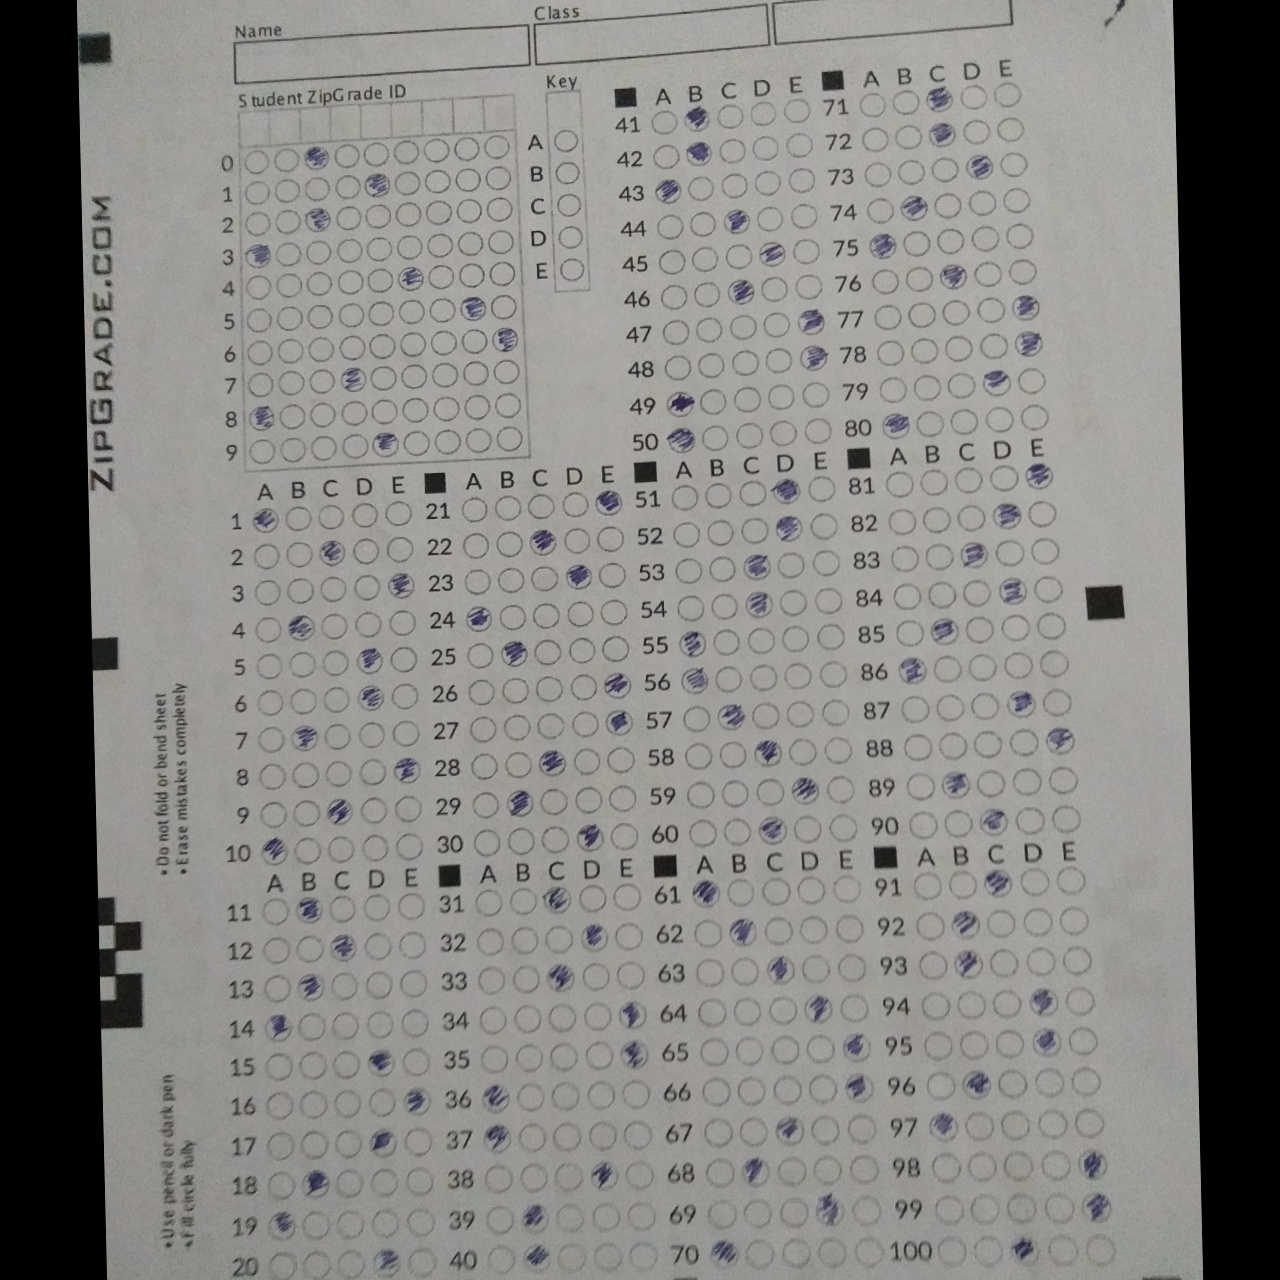not-c: (1001, 1189, 1037, 1227), (699, 1114, 736, 1150), (971, 1230, 1005, 1269), (703, 1196, 740, 1232), (927, 1149, 964, 1185), (1039, 1190, 1076, 1225), (850, 1234, 888, 1268), (1062, 983, 1101, 1017), (911, 908, 949, 942), (587, 1239, 627, 1272), (261, 1165, 297, 1201), (837, 989, 873, 1024), (1044, 1233, 1081, 1268), (1082, 1232, 1118, 1267), (1048, 799, 1083, 836), (626, 1238, 663, 1272), (1065, 1023, 1103, 1057), (935, 1230, 968, 1268), (931, 1191, 966, 1226), (1071, 1104, 1107, 1139), (1034, 1105, 1069, 1141), (919, 1027, 954, 1062), (550, 1160, 586, 1194), (482, 1239, 516, 1275), (1017, 904, 1054, 938), (1035, 646, 1071, 680), (551, 1201, 588, 1234), (968, 1189, 1000, 1227), (688, 915, 723, 949), (809, 1112, 844, 1146), (701, 1155, 736, 1189), (777, 1194, 811, 1230), (956, 1026, 992, 1060), (1060, 944, 1095, 978), (996, 1108, 1033, 1141), (913, 946, 949, 979), (908, 869, 945, 901), (975, 329, 1013, 361), (263, 1087, 297, 1121), (261, 1128, 295, 1162), (401, 1123, 435, 1157), (685, 813, 719, 847), (482, 1201, 515, 1237), (758, 876, 794, 908), (803, 1030, 838, 1063), (805, 1071, 838, 1107), (740, 1196, 772, 1231), (965, 1148, 998, 1183), (1037, 1149, 1073, 1182), (995, 1024, 1028, 1060), (917, 988, 952, 1021), (904, 808, 939, 840), (883, 505, 918, 538), (873, 373, 908, 406), (680, 738, 716, 770), (845, 1153, 881, 1185), (850, 1190, 881, 1226), (920, 1069, 956, 1101), (399, 1044, 431, 1078), (365, 1084, 399, 1117), (297, 1126, 329, 1160), (403, 1163, 436, 1197), (333, 1166, 367, 1199), (583, 1039, 615, 1073), (619, 1076, 653, 1109), (584, 1077, 617, 1111), (549, 1080, 583, 1112), (622, 1157, 656, 1190), (479, 1160, 513, 1193), (683, 776, 716, 810), (693, 994, 727, 1027), (731, 1032, 764, 1065), (779, 1235, 812, 1269), (1000, 1149, 1034, 1182), (954, 986, 988, 1019), (624, 1199, 659, 1231), (787, 234, 822, 266), (811, 584, 846, 615), (898, 729, 933, 761), (880, 468, 915, 499), (332, 1125, 365, 1158), (406, 1246, 438, 1279), (515, 1080, 547, 1112), (826, 811, 859, 844), (762, 914, 795, 947), (734, 1074, 767, 1107), (743, 1237, 776, 1269), (815, 1235, 847, 1268), (1070, 1064, 1103, 1097), (1057, 903, 1090, 935), (940, 808, 973, 840), (1010, 765, 1043, 798), (897, 692, 930, 724), (1000, 648, 1033, 681), (959, 576, 992, 608), (369, 1207, 401, 1241), (403, 1206, 437, 1238), (266, 1248, 300, 1280), (470, 887, 504, 919), (613, 959, 647, 990), (474, 964, 508, 995), (476, 1042, 510, 1074), (515, 1160, 549, 1192), (823, 771, 857, 803), (769, 1032, 801, 1065), (697, 1075, 731, 1107), (775, 1155, 809, 1186), (1032, 1067, 1065, 1098), (924, 578, 958, 610), (987, 462, 1021, 493), (540, 922, 576, 953), (331, 1087, 363, 1118), (298, 1088, 329, 1121), (476, 1002, 508, 1035), (516, 1122, 549, 1153), (660, 349, 693, 381), (731, 418, 764, 450), (719, 776, 751, 808), (794, 874, 826, 906), (797, 914, 830, 946), (767, 994, 799, 1026), (699, 1035, 730, 1068), (771, 1073, 803, 1105), (962, 1109, 995, 1141), (992, 986, 1024, 1017), (987, 947, 1020, 979), (975, 767, 1008, 798), (962, 614, 995, 646), (1034, 610, 1067, 641), (1006, 256, 1039, 287), (972, 257, 1003, 290), (554, 1241, 588, 1272), (756, 275, 790, 306), (692, 956, 726, 987), (738, 1114, 769, 1148), (846, 1112, 877, 1146), (903, 769, 937, 799), (1006, 727, 1040, 757), (932, 693, 966, 723), (947, 404, 981, 435), (867, 266, 901, 297), (399, 1007, 430, 1039), (297, 1048, 328, 1080), (799, 377, 831, 409), (806, 472, 838, 504), (1055, 864, 1087, 896), (1042, 687, 1074, 719), (894, 617, 926, 648), (891, 579, 922, 611), (908, 333, 940, 365), (239, 145, 272, 176), (607, 782, 640, 812), (362, 928, 393, 961), (331, 1047, 361, 1080), (611, 881, 644, 912), (551, 1121, 584, 1151), (731, 383, 764, 414), (802, 415, 835, 445), (969, 728, 1002, 758), (993, 537, 1026, 567), (912, 370, 942, 403), (939, 298, 972, 328), (969, 222, 1000, 254), (621, 1121, 655, 1150), (821, 735, 855, 764), (835, 952, 869, 981), (998, 612, 1032, 641), (1032, 574, 1065, 604), (1028, 536, 1062, 565), (1024, 499, 1058, 529), (944, 372, 978, 401), (974, 294, 1008, 324), (862, 195, 896, 224), (428, 327, 459, 358), (362, 891, 394, 921), (260, 933, 291, 965), (369, 1166, 400, 1198), (335, 1207, 366, 1239), (302, 1248, 333, 1280), (335, 1248, 366, 1280), (581, 1001, 613, 1032), (549, 1041, 580, 1071), (591, 1201, 622, 1232), (762, 346, 794, 376), (729, 347, 760, 379), (767, 416, 798, 447), (815, 620, 846, 651), (754, 776, 785, 806), (722, 815, 753, 846), (723, 877, 755, 907), (831, 872, 863, 903), (835, 913, 866, 944), (801, 952, 831, 983), (731, 995, 763, 1026), (811, 1155, 843, 1185), (996, 1069, 1028, 1099), (1024, 945, 1055, 976), (985, 907, 1016, 938), (948, 869, 979, 900), (1048, 765, 1078, 797), (937, 729, 968, 760), (931, 653, 962, 683), (953, 462, 983, 493), (935, 225, 966, 257), (241, 304, 274, 333), (297, 1009, 326, 1042), (510, 922, 539, 955), (512, 1001, 542, 1034), (659, 315, 692, 345), (727, 956, 760, 986), (1017, 867, 1050, 897), (887, 544, 920, 573), (955, 504, 988, 533), (1003, 222, 1036, 251), (992, 80, 1024, 109), (241, 338, 275, 366), (779, 95, 813, 123), (958, 117, 993, 144), (613, 920, 644, 951), (580, 960, 611, 990), (515, 1042, 545, 1073), (728, 311, 758, 341), (668, 481, 699, 511), (817, 658, 847, 688), (1015, 806, 1046, 837), (1019, 401, 1049, 431), (942, 331, 973, 361), (998, 148, 1028, 178), (333, 203, 362, 234), (301, 1208, 331, 1240), (510, 964, 542, 993), (546, 1001, 576, 1033), (587, 1121, 619, 1150), (784, 128, 813, 159), (694, 314, 726, 343), (749, 700, 781, 729), (790, 813, 822, 843), (966, 651, 998, 680), (921, 505, 953, 535), (918, 467, 949, 496), (906, 299, 938, 328), (928, 154, 960, 183), (888, 86, 920, 115), (856, 89, 887, 118), (576, 884, 608, 912), (646, 107, 679, 135), (787, 200, 819, 229), (652, 211, 685, 239), (874, 336, 907, 365), (656, 282, 690, 309), (571, 745, 601, 775), (608, 822, 639, 851), (399, 930, 428, 960), (985, 402, 1014, 433), (896, 157, 926, 186), (860, 123, 890, 154), (893, 122, 924, 151), (365, 1007, 393, 1039), (722, 241, 754, 270), (785, 699, 817, 727), (787, 737, 818, 765), (1017, 367, 1049, 395), (932, 190, 964, 218), (967, 188, 999, 216), (306, 334, 335, 363), (331, 1012, 360, 1041), (263, 973, 292, 1002), (363, 969, 393, 999), (294, 934, 324, 964), (750, 132, 779, 162), (754, 168, 783, 197), (821, 697, 850, 727), (474, 828, 504, 856), (331, 971, 359, 1001), (508, 887, 538, 915), (474, 928, 504, 956), (651, 142, 681, 170), (719, 171, 749, 199), (787, 166, 817, 195), (656, 246, 687, 274), (761, 309, 791, 338), (782, 661, 812, 689), (719, 737, 747, 768), (971, 692, 1001, 720), (1002, 186, 1033, 215), (862, 159, 892, 188), (483, 195, 515, 222), (922, 543, 954, 570), (428, 295, 457, 324), (704, 517, 734, 545), (264, 1051, 292, 1081), (399, 969, 428, 998), (700, 422, 729, 450), (873, 302, 903, 331), (903, 229, 932, 257), (486, 260, 517, 287), (606, 745, 636, 772), (688, 209, 719, 236), (754, 205, 784, 232), (692, 281, 722, 308), (737, 479, 768, 506), (794, 273, 825, 299), (903, 265, 934, 291), (958, 83, 989, 109), (454, 195, 482, 223), (493, 390, 522, 418), (459, 327, 488, 355), (778, 588, 806, 617), (392, 719, 420, 747), (539, 787, 567, 815), (749, 663, 777, 692), (292, 799, 320, 828), (690, 245, 719, 273), (452, 135, 482, 162), (392, 169, 421, 196), (363, 202, 393, 229), (395, 234, 424, 261), (740, 517, 769, 544), (696, 350, 726, 377), (699, 384, 726, 414), (703, 481, 733, 508), (401, 429, 431, 455), (272, 147, 300, 173), (392, 137, 420, 164), (362, 139, 390, 166), (273, 176, 301, 203), (334, 173, 362, 200), (424, 166, 451, 195), (424, 198, 452, 225), (274, 239, 301, 267), (425, 232, 454, 259), (552, 125, 579, 154), (556, 222, 584, 248), (275, 302, 302, 331), (306, 302, 334, 329), (489, 293, 517, 320), (308, 401, 336, 428), (340, 399, 368, 425), (370, 397, 399, 424), (464, 393, 492, 420), (461, 359, 489, 386), (491, 358, 519, 384), (308, 367, 336, 394), (277, 369, 305, 396), (246, 372, 274, 399), (279, 436, 307, 463), (247, 437, 275, 464), (464, 425, 492, 452), (493, 424, 522, 451), (431, 361, 459, 388), (400, 362, 428, 389), (369, 363, 397, 390), (400, 331, 428, 358), (496, 530, 524, 557), (462, 532, 490, 559), (284, 503, 312, 530), (253, 578, 281, 605), (286, 577, 314, 604), (319, 576, 347, 602), (384, 536, 413, 563), (350, 537, 379, 564), (560, 491, 588, 518), (493, 493, 522, 520), (433, 429, 461, 456), (309, 433, 338, 459), (459, 496, 488, 523), (341, 433, 369, 459), (352, 573, 380, 600), (252, 542, 280, 568), (277, 403, 305, 430), (563, 527, 591, 554), (464, 568, 492, 595), (353, 610, 381, 636), (320, 612, 348, 639), (597, 525, 625, 552), (389, 644, 417, 670), (388, 608, 416, 635), (673, 520, 701, 547), (600, 598, 628, 625), (498, 602, 526, 629), (567, 636, 595, 663), (601, 635, 629, 662), (496, 566, 524, 593), (530, 564, 558, 591), (777, 551, 805, 578), (708, 554, 736, 581), (675, 556, 703, 583), (287, 651, 315, 678), (322, 648, 350, 675), (253, 617, 281, 644), (358, 758, 386, 785), (358, 720, 386, 747), (257, 688, 285, 715), (322, 686, 350, 713), (812, 549, 840, 576), (258, 762, 286, 789), (292, 760, 320, 787), (257, 726, 285, 753), (810, 513, 838, 540), (781, 624, 809, 651), (747, 626, 775, 653), (714, 665, 742, 692), (712, 628, 740, 655), (532, 600, 560, 627), (503, 714, 531, 741), (471, 791, 499, 818), (535, 712, 563, 738), (683, 704, 712, 731), (574, 785, 602, 812), (571, 710, 599, 737), (470, 753, 498, 779), (504, 751, 532, 778), (535, 675, 563, 702), (568, 674, 597, 701), (395, 832, 423, 859), (293, 837, 321, 864), (326, 835, 354, 862), (361, 835, 389, 862), (360, 797, 388, 824), (394, 794, 422, 821), (327, 896, 355, 922), (397, 892, 425, 919), (261, 898, 290, 925), (258, 801, 286, 828), (687, 173, 715, 200), (767, 382, 795, 409), (422, 137, 451, 163), (452, 166, 482, 192), (305, 237, 331, 266), (243, 273, 272, 299), (425, 264, 455, 290), (366, 300, 395, 326), (715, 103, 745, 128), (273, 207, 300, 234), (336, 236, 363, 263), (338, 268, 365, 295), (558, 256, 585, 282), (368, 332, 395, 359), (433, 395, 459, 422), (316, 504, 343, 531), (350, 502, 377, 529), (384, 501, 411, 527), (467, 642, 493, 669), (712, 593, 738, 620), (678, 594, 704, 621), (256, 652, 282, 679), (324, 722, 350, 749), (290, 687, 316, 714), (508, 826, 535, 853), (483, 134, 511, 159), (243, 178, 271, 204), (456, 231, 484, 257), (486, 229, 515, 254), (305, 271, 333, 297), (397, 298, 425, 324), (401, 396, 429, 422), (285, 542, 313, 567), (526, 493, 554, 519), (597, 561, 625, 587), (533, 638, 561, 663), (566, 600, 594, 626), (467, 679, 495, 704), (390, 683, 418, 709), (469, 715, 497, 741), (501, 678, 529, 703), (542, 826, 570, 852), (554, 192, 584, 217), (749, 101, 778, 125), (995, 117, 1024, 142), (244, 210, 271, 236), (395, 200, 421, 227), (275, 272, 302, 298), (366, 267, 393, 293), (457, 263, 484, 288), (553, 159, 580, 185), (338, 302, 365, 328), (277, 338, 304, 363), (324, 760, 350, 785), (719, 137, 745, 163), (915, 411, 942, 437), (304, 176, 332, 200), (366, 236, 392, 261), (332, 143, 359, 168), (336, 335, 365, 359), (485, 165, 511, 190)
taken-c: (959, 1065, 995, 1101), (812, 1191, 846, 1228), (1078, 1189, 1114, 1224), (1008, 1231, 1042, 1267), (726, 914, 760, 949), (772, 1112, 806, 1148), (738, 1153, 772, 1189), (1029, 1024, 1064, 1058), (1074, 1146, 1108, 1182), (264, 1208, 298, 1242), (802, 990, 835, 1026), (951, 947, 986, 980), (840, 1030, 873, 1064), (1027, 985, 1061, 1017), (927, 1109, 960, 1143), (588, 1158, 620, 1193), (1003, 688, 1039, 720), (295, 971, 328, 1003), (298, 1167, 331, 1200), (481, 1122, 513, 1155), (981, 866, 1014, 899), (519, 1201, 551, 1235), (618, 998, 649, 1032), (545, 960, 577, 994), (708, 1237, 740, 1271), (1044, 726, 1078, 757), (618, 1039, 651, 1070), (981, 367, 1014, 399), (897, 654, 930, 686), (978, 806, 1010, 838), (949, 908, 982, 940), (327, 930, 358, 964), (689, 878, 723, 908), (765, 952, 796, 986), (842, 1070, 876, 1101), (879, 410, 913, 441), (990, 501, 1024, 531), (536, 747, 567, 778), (774, 512, 805, 544), (757, 813, 789, 845), (263, 1012, 294, 1043), (370, 1247, 402, 1279), (481, 1082, 512, 1114), (365, 1049, 397, 1080), (369, 1125, 400, 1158), (922, 84, 955, 115), (897, 191, 930, 222), (1012, 290, 1042, 322), (940, 769, 973, 799), (796, 342, 830, 372), (1012, 329, 1046, 359), (497, 636, 529, 667), (576, 821, 606, 852), (715, 701, 747, 731), (753, 737, 784, 768), (789, 775, 821, 805), (401, 1085, 433, 1116), (540, 885, 572, 915), (726, 275, 757, 306), (653, 176, 685, 206), (996, 576, 1028, 606), (928, 615, 960, 646), (795, 307, 828, 336), (1023, 462, 1056, 491), (958, 539, 990, 568), (489, 324, 519, 354), (593, 486, 624, 517), (771, 476, 802, 506), (743, 588, 774, 619), (579, 921, 610, 952), (258, 837, 290, 866), (506, 787, 536, 818), (679, 666, 710, 695), (964, 151, 995, 181), (663, 390, 696, 418), (250, 505, 280, 535), (290, 722, 320, 751), (393, 755, 422, 785), (324, 798, 354, 828), (678, 629, 708, 659), (386, 571, 417, 599), (601, 670, 633, 699), (602, 707, 634, 735), (520, 1242, 552, 1271), (937, 261, 968, 290), (355, 646, 384, 675), (564, 560, 593, 590), (667, 424, 696, 454), (867, 231, 897, 260), (527, 527, 558, 556), (742, 553, 772, 581), (316, 538, 346, 566), (355, 683, 384, 712), (464, 604, 493, 632), (682, 104, 712, 132), (927, 120, 956, 148), (293, 896, 324, 922), (756, 240, 787, 267), (721, 207, 751, 234), (396, 264, 424, 292), (301, 144, 331, 171), (362, 172, 392, 199), (302, 205, 332, 232), (685, 139, 714, 166), (243, 243, 273, 268), (338, 366, 368, 392), (285, 614, 315, 640), (459, 295, 486, 324), (372, 431, 400, 458), (246, 404, 275, 430)
